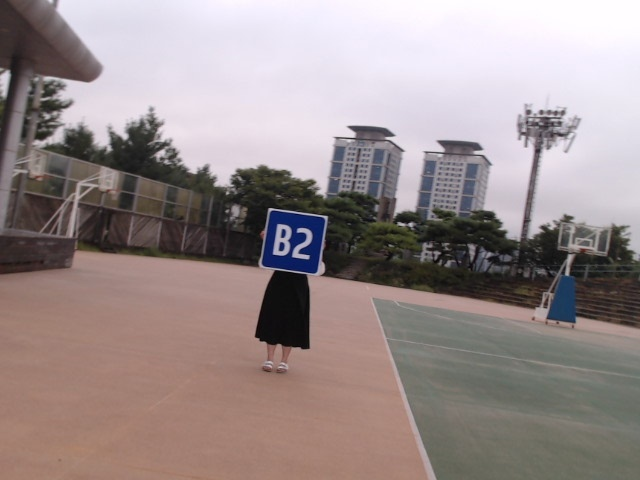delivery_b2: (259, 209, 327, 275)
